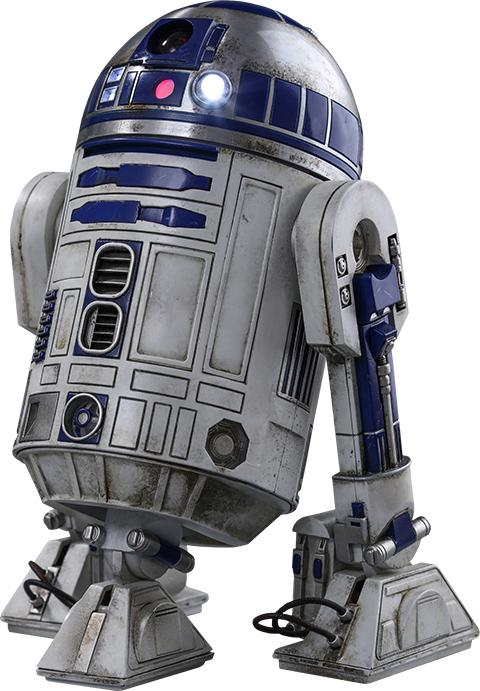r2d2: (16, 1, 471, 682)
